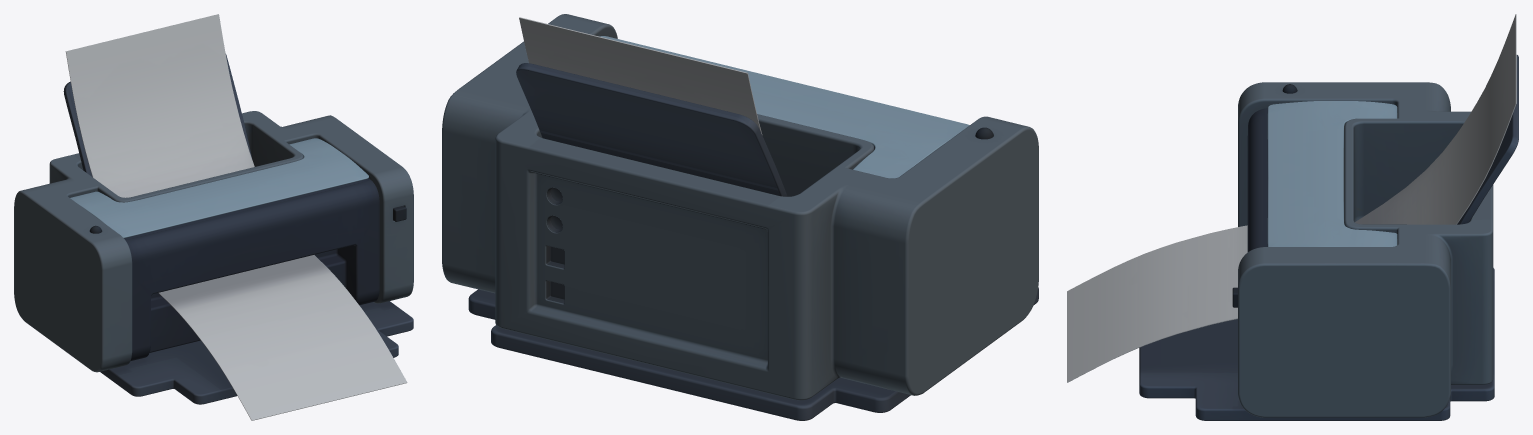
File: Printer.glb
3 views of the same model, side by side, from view 1: azimuth 30°, elevation 25°; view 2: azimuth 150°, elevation 25°; view 3: azimuth 270°, elevation 25° (orthographic). The views are drawn at different scales.
Visible parts, largest first — view 1: node_id30; view 2: node_id30; view 3: node_id30.
Boxes of the visible parts, box(x1,y1,x2,y2) form: node_id30: box(14, 14, 413, 420); node_id30: box(442, 14, 1038, 420); node_id30: box(1067, 14, 1518, 420).
Bounding box in the file's own units: 0.512 × 0.3662 × 0.5346.
Materials: 1 (1 with a texture image).
